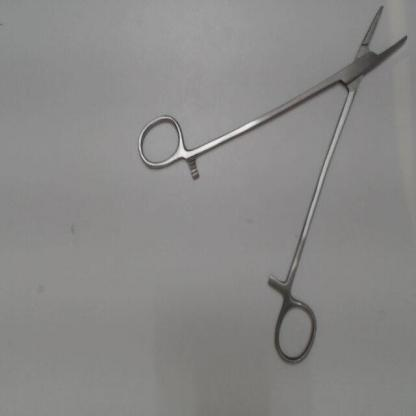8 Mayo Needle Holder: (130, 1, 413, 372)
